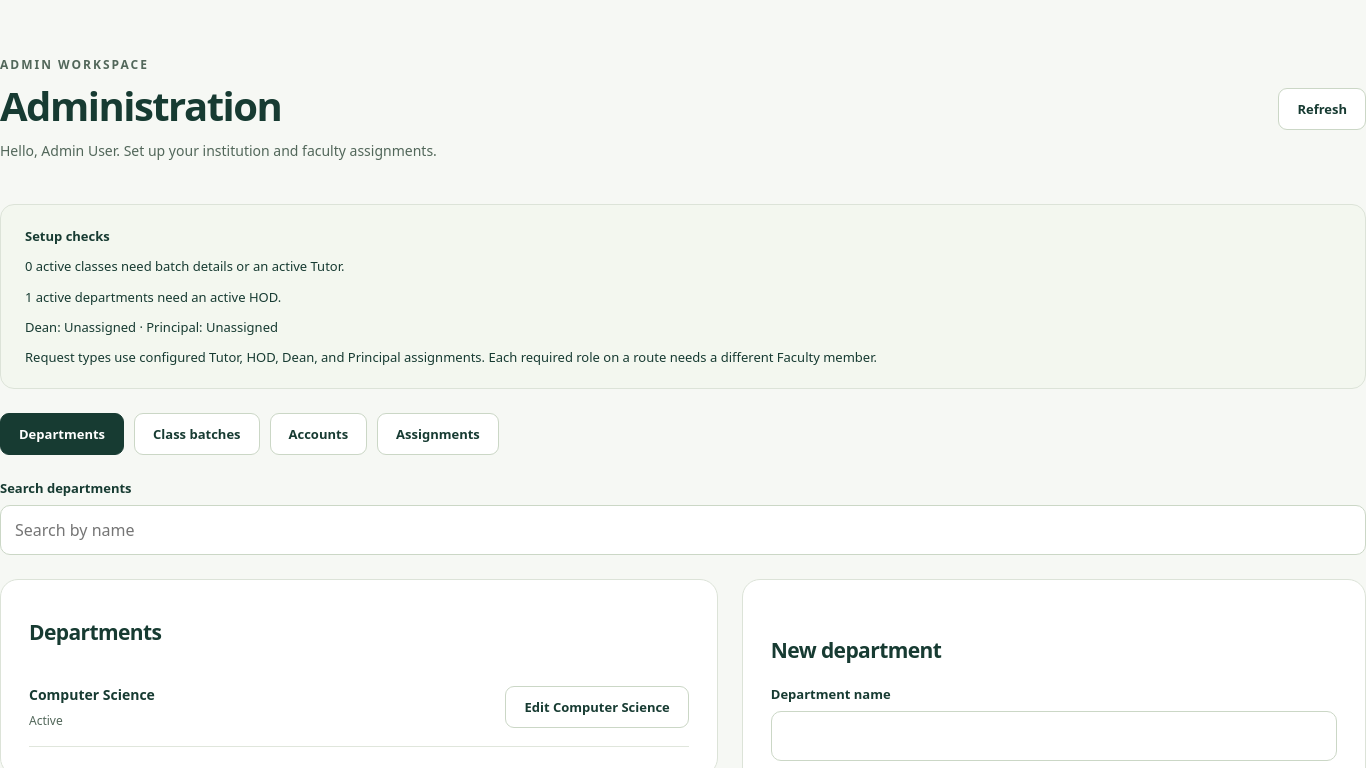
Scenario: Admin workspace › invites college Faculty without offering Admin type or password input
Expected: the text "Setup checks" is shown, x1=25 y1=227 x2=110 y2=245
Click the button "Accounts".
click(318, 434)  # box x1=270 y1=413 x2=367 y2=455
(page scrolled)
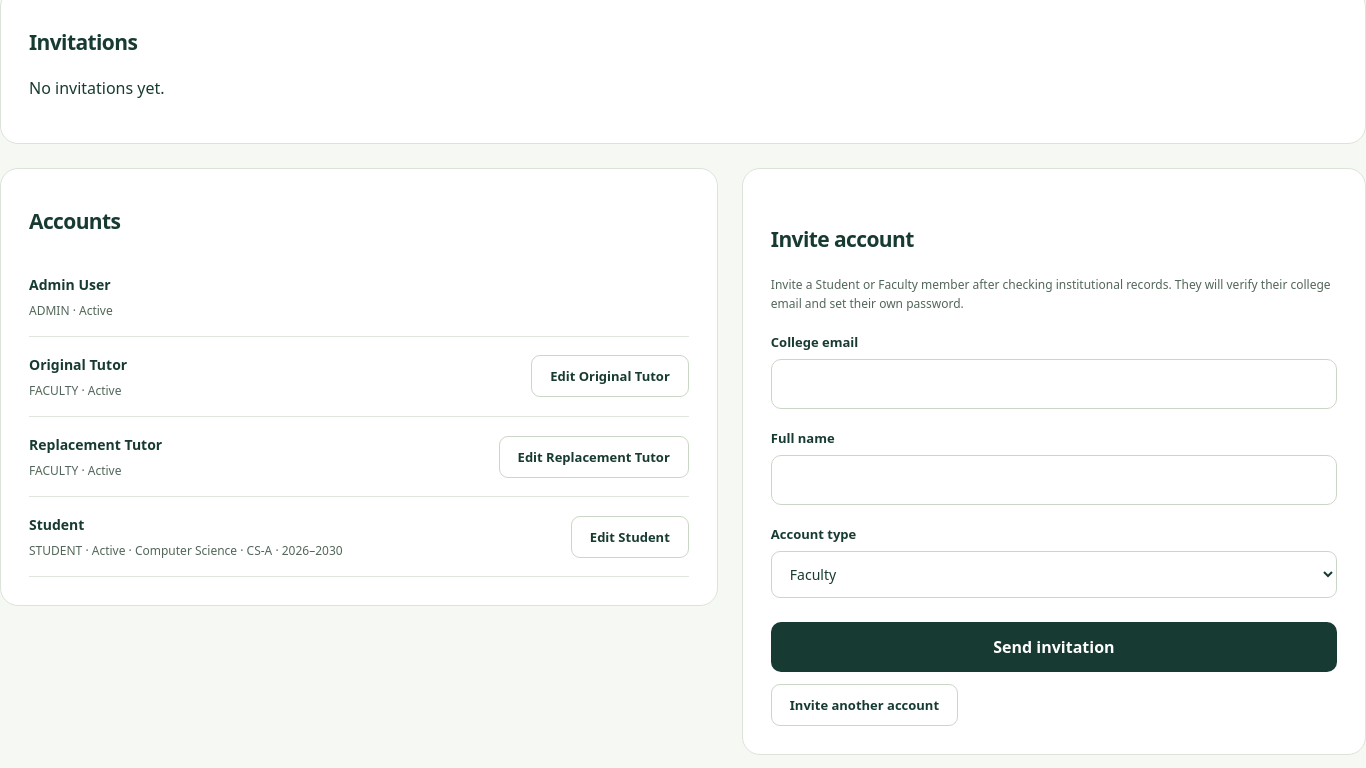
Type "faculty@lbscek.ac.in" into the field labelled "College email".
click(1054, 384); type("faculty@lbscek.ac.in")  # box x1=771 y1=359 x2=1337 y2=409
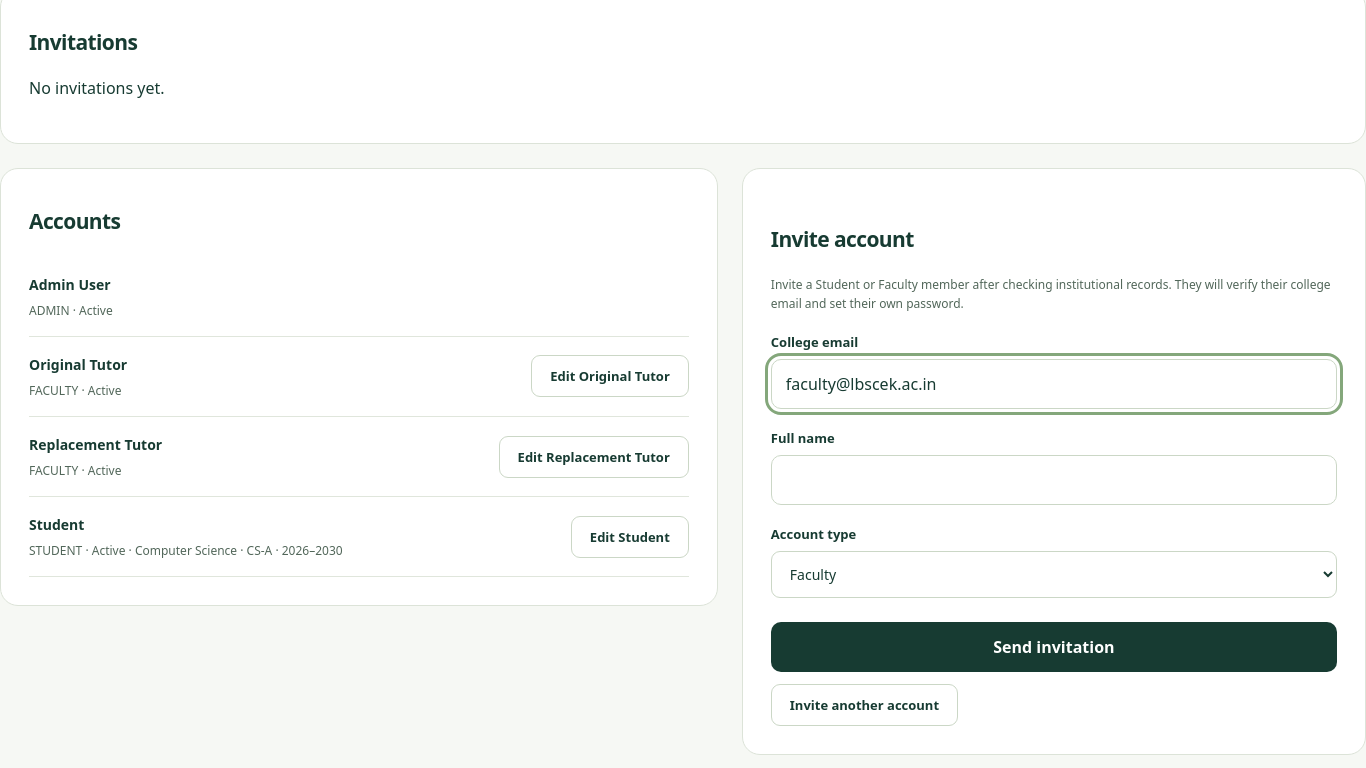
Type "New Faculty" into the field labelled "Full name".
click(1054, 480); type("New Faculty")  # box x1=771 y1=455 x2=1337 y2=505
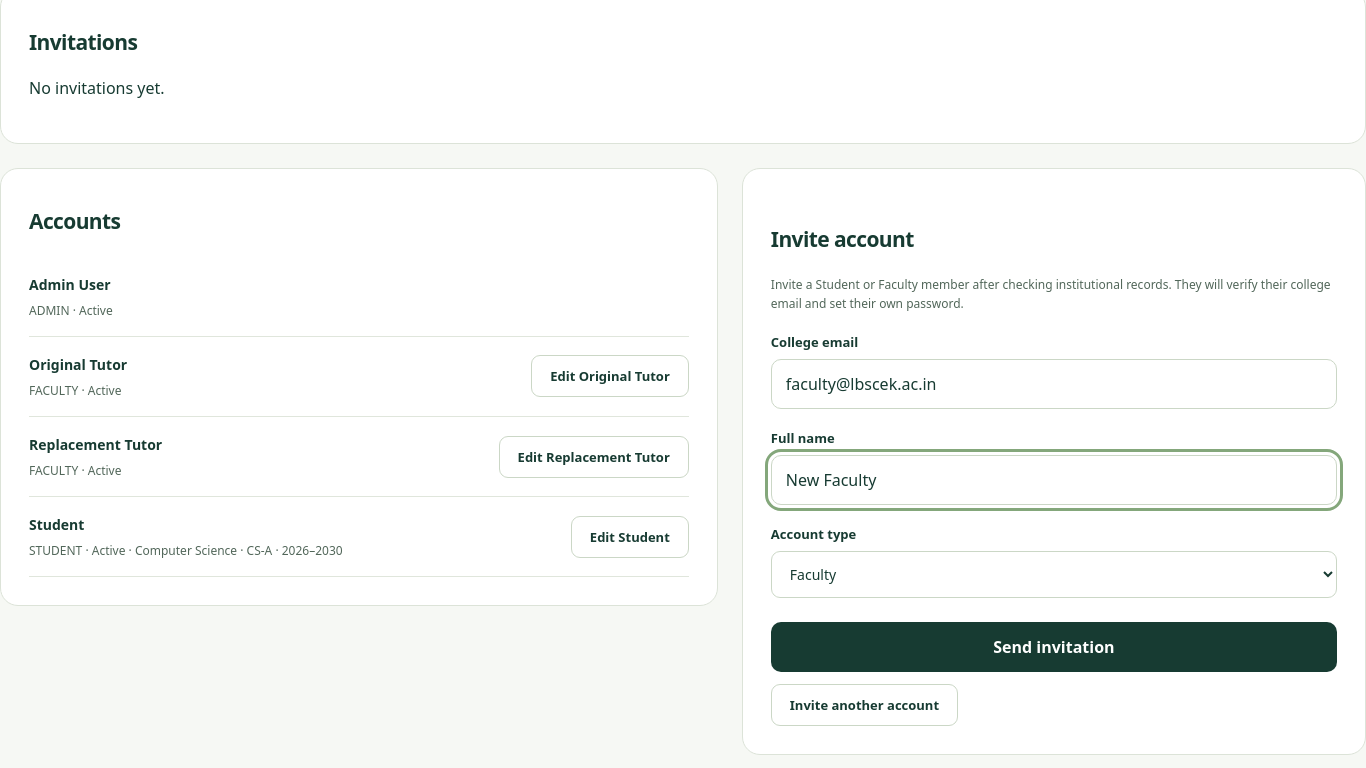
Click the button "Send invitation".
click(1054, 647)  # box x1=771 y1=622 x2=1337 y2=672
(page scrolled)
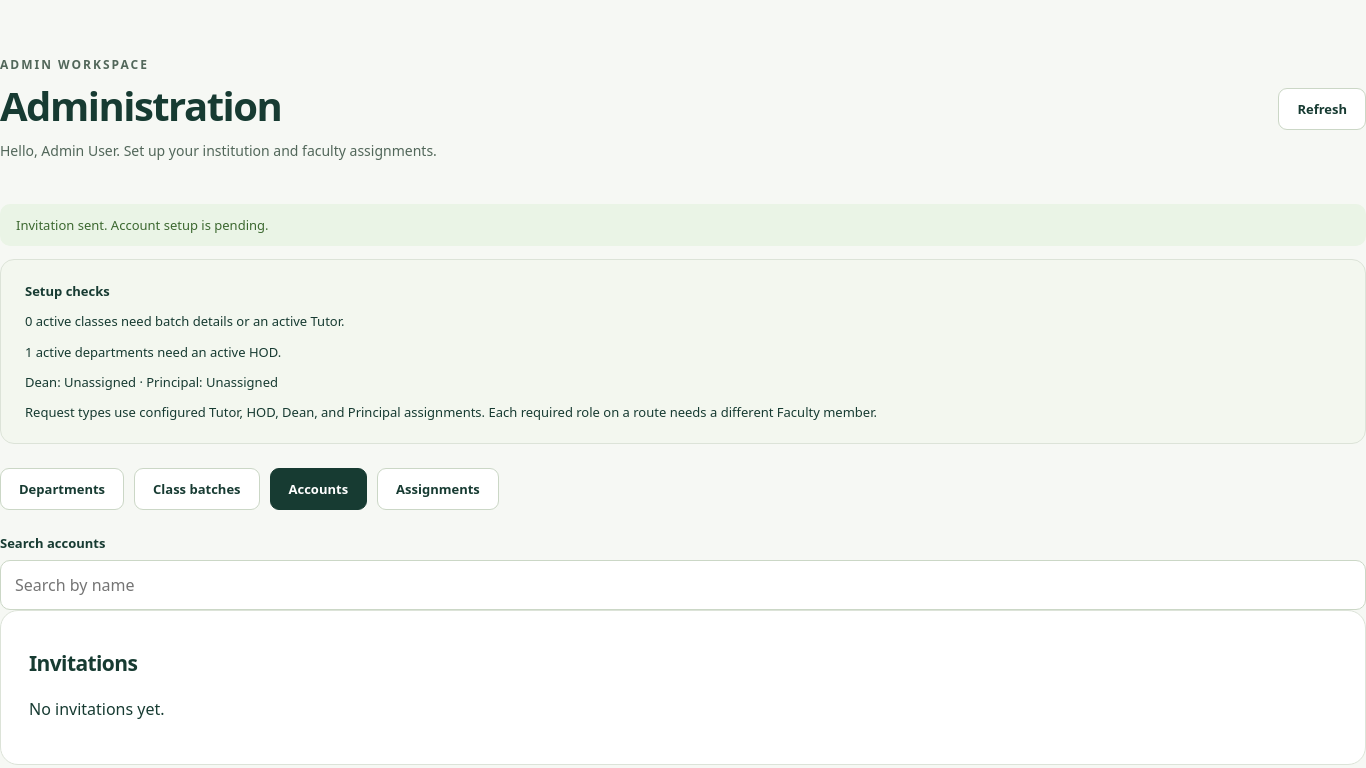
Now the text "Invitation sent. Account setup is pending." is shown, box x1=0 y1=204 x2=1365 y2=246
